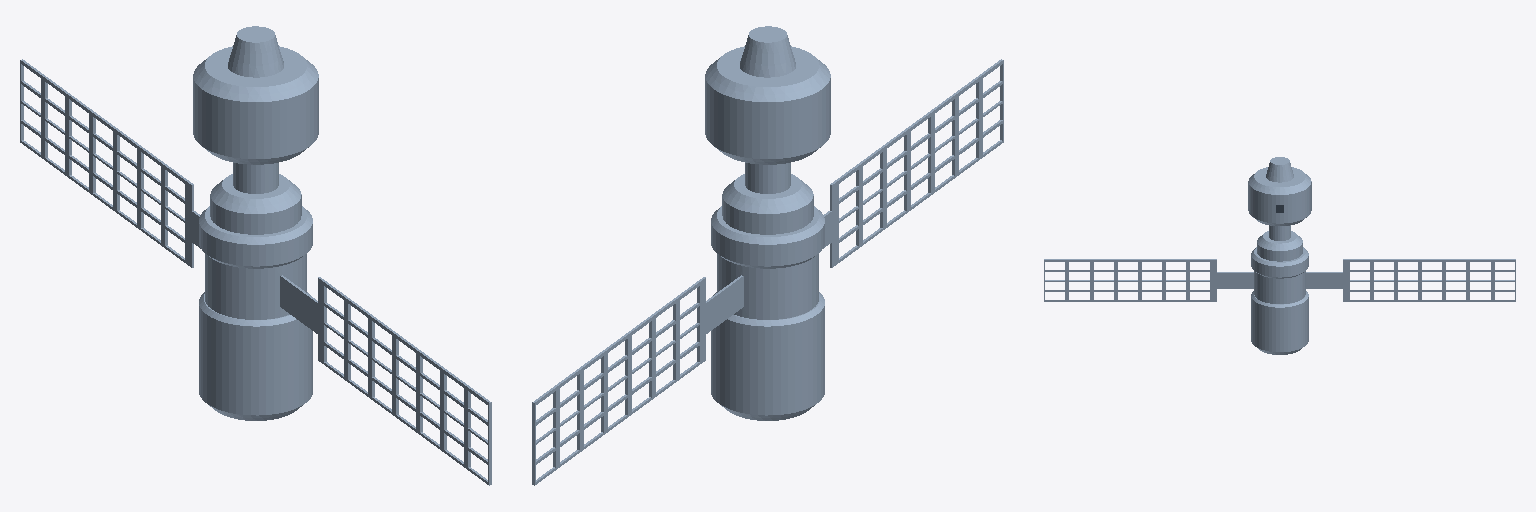
The robot description file, URDF, robot "A_upper_plus_x":
<?xml version='1.0' encoding='utf-8'?>
<robot name="A_upper_plus_x">
  <link name="base_link">
    <inertial>
      <origin xyz="0 0 -0.029031273" rpy="0 0 0" />
      <mass value="21.782594" />
      <inertia ixx="1.0564574" iyy="0.94781648" izz="0.2101786" ixy="0" ixz="2.310708e-13" iyz="-6.8461865e-12" />
    </inertial>
    <visual>
      <origin xyz="0 0 -0.355" rpy="0 0 0" />
      <geometry>
        <mesh filename="meshes/part_001_solid_001.stl" scale="0.011 0.011 0.011" />
      </geometry>
      <material name="satellite_body_color">
        <color rgba="0.65 0.72 0.8 1" />
      </material>
    </visual>
    <collision>
      <origin xyz="0 0 -0.355" rpy="0 0 0" />
      <geometry>
        <mesh filename="meshes/part_001_solid_001.stl" scale="0.011 0.011 0.011" />
      </geometry>
    </collision>
  </link>
  <link name="A_upper_plus_x_mount" />
  <joint name="satellite_mount_fixed" type="fixed">
    <parent link="base_link" />
    <child link="A_upper_plus_x_mount" />
    <origin xyz="1.21 0.0 6.0" rpy="-1.5707963267948966 0.0 -1.5707963267948966" />
  </joint>
  <link name="concept_mount_pad">
    <visual>
      <origin xyz="0 0 0.015" rpy="0 0 0" />
      <geometry>
        <box size="0.32 0.32 0.03" />
      </geometry>
      <material name="pad_grey">
        <color rgba="0.3 0.35 0.4 1" />
      </material>
    </visual>
    <collision>
      <origin xyz="0 0 0.015" rpy="0 0 0" />
      <geometry>
        <box size="0.32 0.32 0.03" />
      </geometry>
    </collision>
  </link>
  <joint name="pad_fixed" type="fixed">
    <parent link="A_upper_plus_x_mount" />
    <child link="concept_mount_pad" />
    <origin xyz="0 0 0" rpy="0 0 0" />
  </joint>
</robot>

--- What the picture shows (computed from the rendered views, not written in the file) ---
3 views of the same robot in one strip: view 1: azimuth 30°, elevation 25°; view 2: azimuth 150°, elevation 25°; view 3: azimuth 270°, elevation 25° (orthographic).
Robot: A_upper_plus_x — 3 links, 2 joints (2 fixed); root link base_link; default pose: all joints at 0.
Links seen in each view (by area): view 1: base_link; view 2: base_link; view 3: base_link.
Boxes of the visible links, bbox=[...] form: base_link: bbox=[20, 26, 491, 485]; base_link: bbox=[532, 26, 1003, 485]; base_link: bbox=[1044, 157, 1515, 354].
Bounding box of the posed robot: 2.45 × 18.06 × 7.81 m (x, y, z).
Meshes: 1 distinct files referenced, 1 mesh visuals loaded (1 binary STL).
